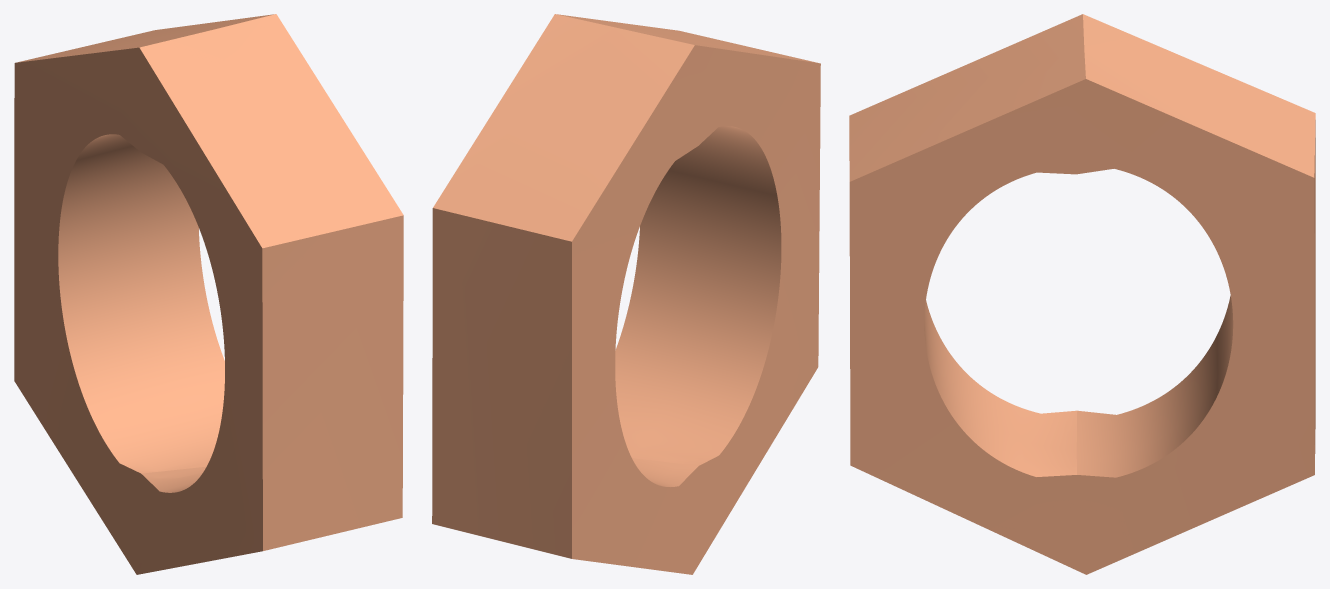
File: sample_01_output.obj
The picture shows the model from 3 angles, left to right: view 1: azimuth 30°, elevation 25°; view 2: azimuth 150°, elevation 25°; view 3: azimuth 270°, elevation 25°; orthographic projection. The views are drawn at different scales.
Visible parts, largest first — view 1: mesh3, mesh4, mesh0, mesh7, mesh5, mesh1; view 2: mesh3, mesh8, mesh1, mesh5, mesh7, mesh0; view 3: mesh2, mesh7, mesh5, mesh0, mesh1, mesh8.
Boxes of the visible parts, <box> form: mesh3: <box>14,47,262,574</box>; mesh4: <box>262,215,403,550</box>; mesh0: <box>58,134,224,473</box>; mesh7: <box>139,14,403,248</box>; mesh5: <box>15,14,273,62</box>; mesh1: <box>141,466,206,492</box>; mesh3: <box>572,45,820,574</box>; mesh8: <box>432,208,571,558</box>; mesh1: <box>615,126,781,465</box>; mesh5: <box>433,14,694,241</box>; mesh7: <box>557,14,818,63</box>; mesh0: <box>632,457,698,486</box>; mesh2: <box>849,79,1314,574</box>; mesh7: <box>849,14,1085,181</box>; mesh5: <box>1083,14,1315,177</box>; mesh0: <box>1076,296,1233,477</box>; mesh1: <box>924,300,1077,476</box>; mesh8: <box>1314,120,1315,453</box>.
Size of the model in its own units: 0.000334 by 0.00119 by 0.00101.
